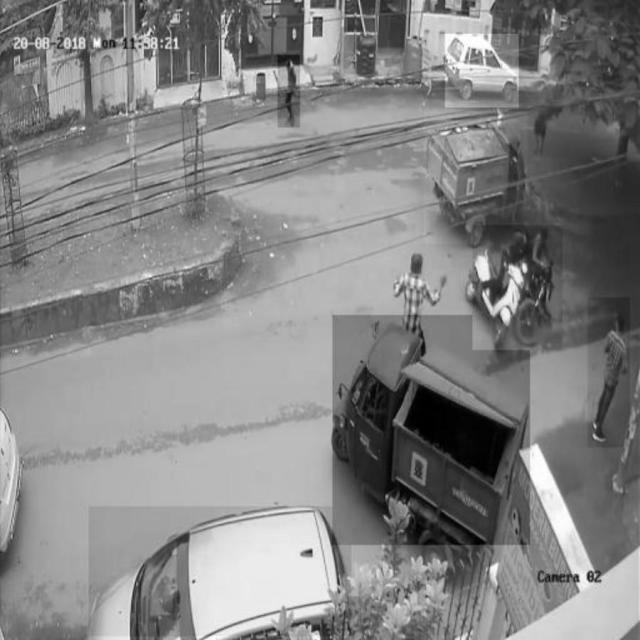accident: (473, 225, 563, 349)
person: (587, 298, 631, 448), (277, 55, 301, 127)
vehicle: (333, 315, 530, 545), (88, 506, 350, 636), (424, 112, 527, 244), (446, 34, 519, 107)
